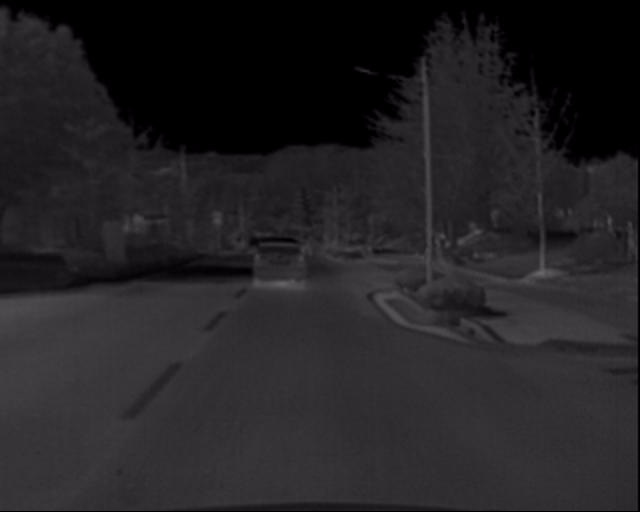person: (434, 229, 464, 276), (421, 230, 449, 277)
